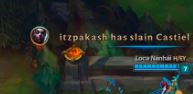bar: (130, 61, 193, 76)
